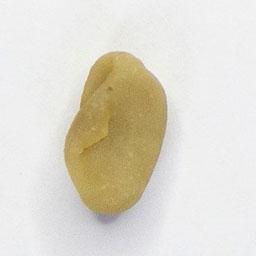defect: (60, 48, 170, 218)
